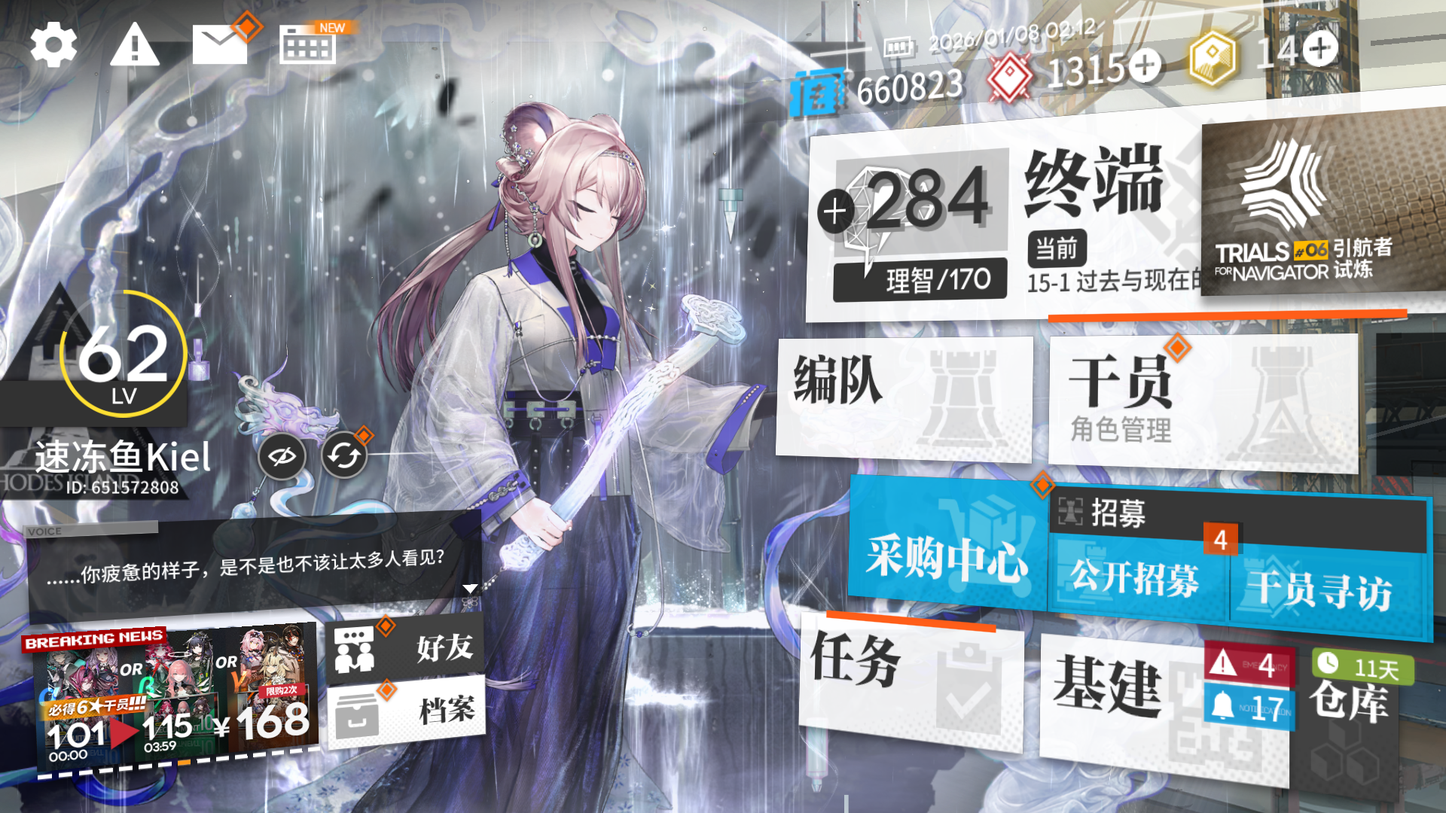home_button: (1003, 116, 1200, 250)
infrastructure_button: (1032, 642, 1315, 784)
